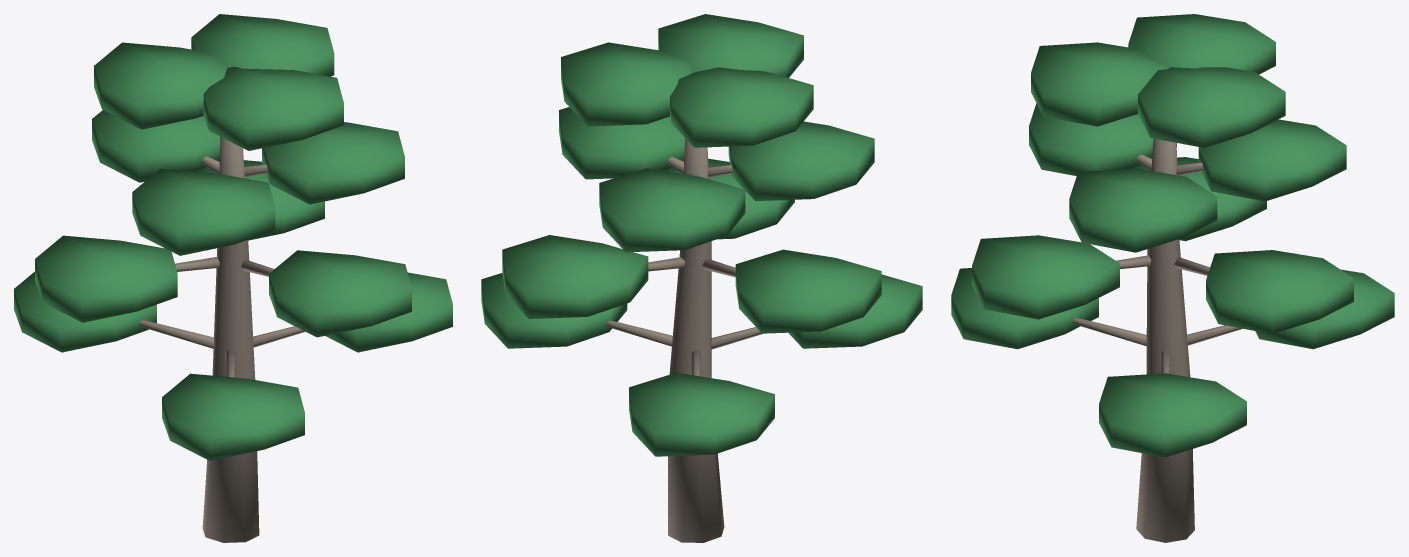
Rendered from canopy_cedar_lebanon.glb.
3 views of the same model, side by side, from view 1: azimuth 30°, elevation 25°; view 2: azimuth 150°, elevation 25°; view 3: azimuth 270°, elevation 25° (orthographic).
Visible parts, largest first — view 1: Flora_Cedar_Lebanon; view 2: Flora_Cedar_Lebanon; view 3: Flora_Cedar_Lebanon.
Boxes of the visible parts, x1,y1,x2,y2 form: Flora_Cedar_Lebanon: (14, 14, 452, 542); Flora_Cedar_Lebanon: (481, 14, 922, 542); Flora_Cedar_Lebanon: (951, 14, 1394, 542).
Size of the model in its own units: 8.5 by 9.77 by 8.31.
